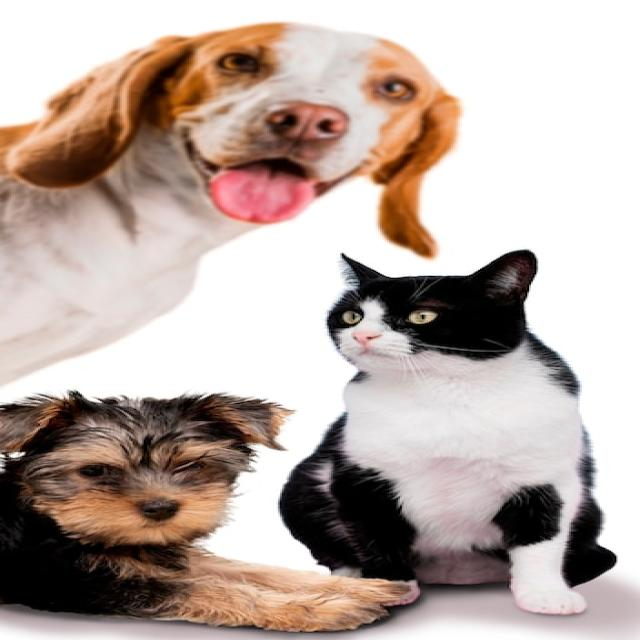Dog: (0, 19, 464, 385), (0, 391, 423, 633)
